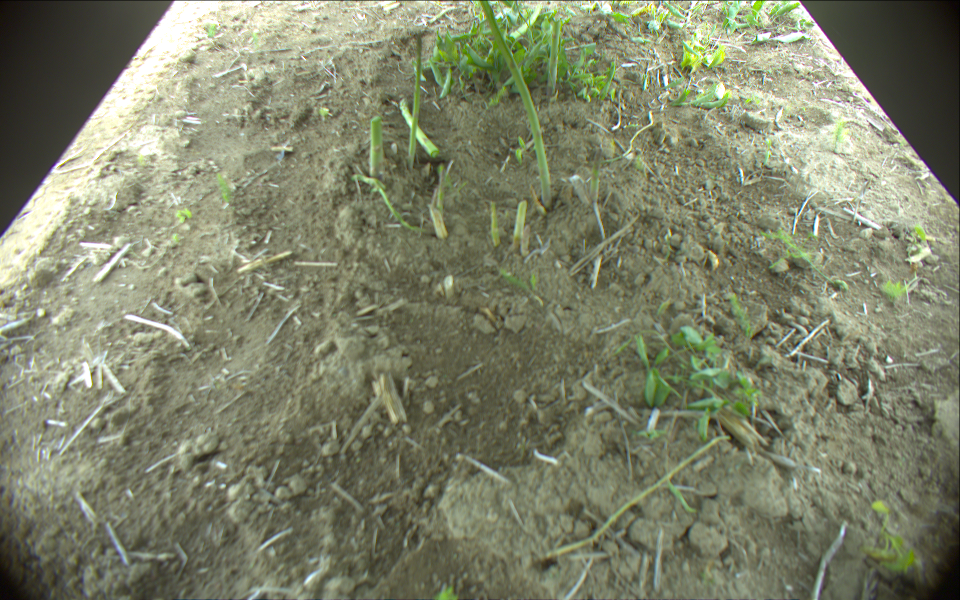aspa: (480, 1, 552, 207), (354, 172, 426, 232), (398, 97, 439, 156), (406, 34, 422, 166), (546, 20, 562, 97), (368, 116, 383, 179), (588, 147, 604, 205), (512, 200, 526, 251), (434, 163, 446, 213)
